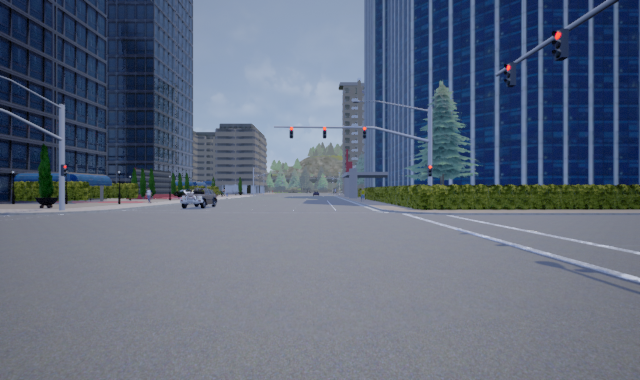pedestrian: (143, 186, 153, 203), (359, 186, 366, 202)
vehicle: (178, 187, 218, 209)
